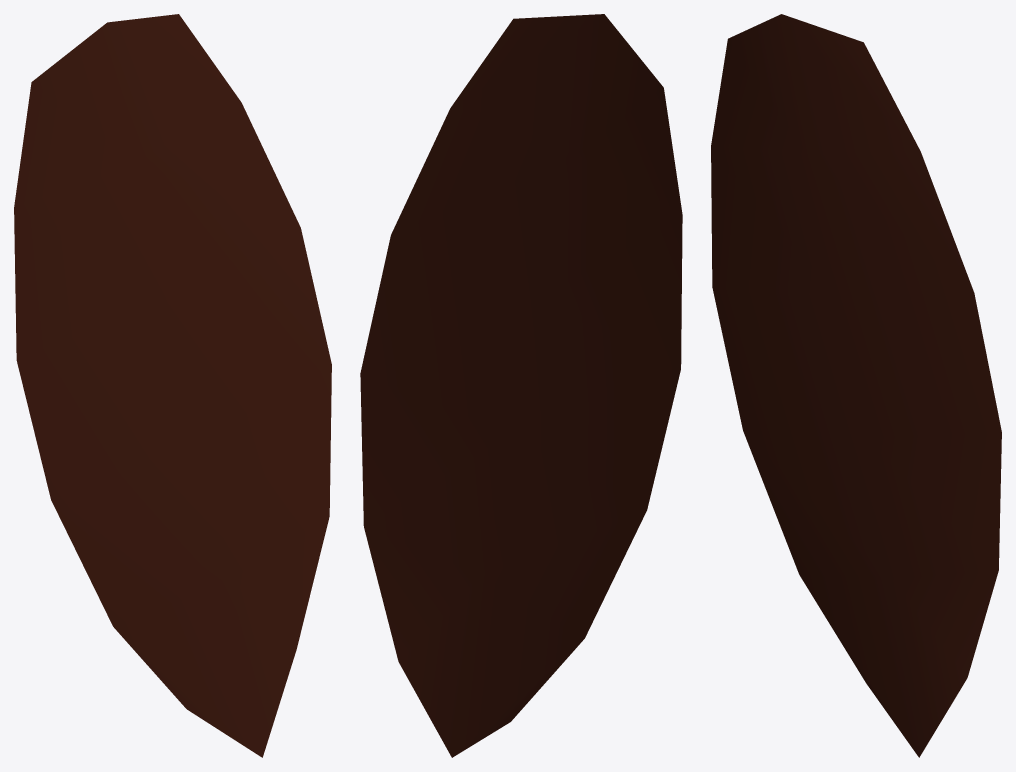
The model's file is rooster_feather_flight_tertiary_016.obj.
The picture shows the model from 3 angles, left to right: view 1: azimuth 30°, elevation 25°; view 2: azimuth 150°, elevation 25°; view 3: azimuth 330°, elevation 25°; orthographic projection. The views are drawn at different scales.
Visible parts, largest first — view 1: feather_flight_tertiary_016; view 2: feather_flight_tertiary_016; view 3: feather_flight_tertiary_016.
Boxes of the visible parts, left/top/right/bottom form: feather_flight_tertiary_016: left=14, top=14, right=331, bottom=757; feather_flight_tertiary_016: left=360, top=14, right=682, bottom=757; feather_flight_tertiary_016: left=711, top=14, right=1001, bottom=757.
Bounding box in the file's own units: 0.0103 × 0.0239 × 0.000656.
